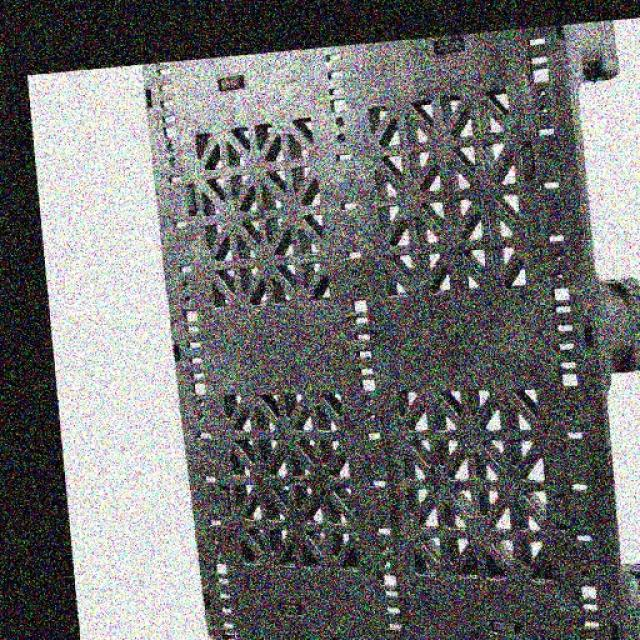non-igps: (137, 14, 640, 640)
